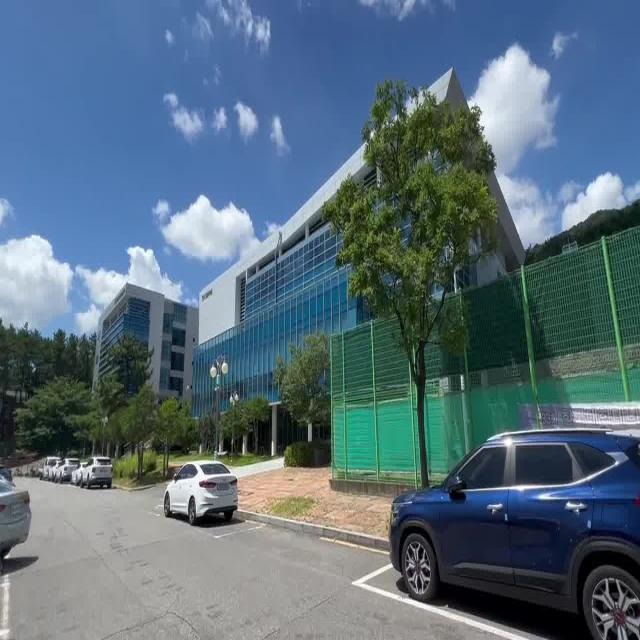building: (196, 238, 290, 410)
